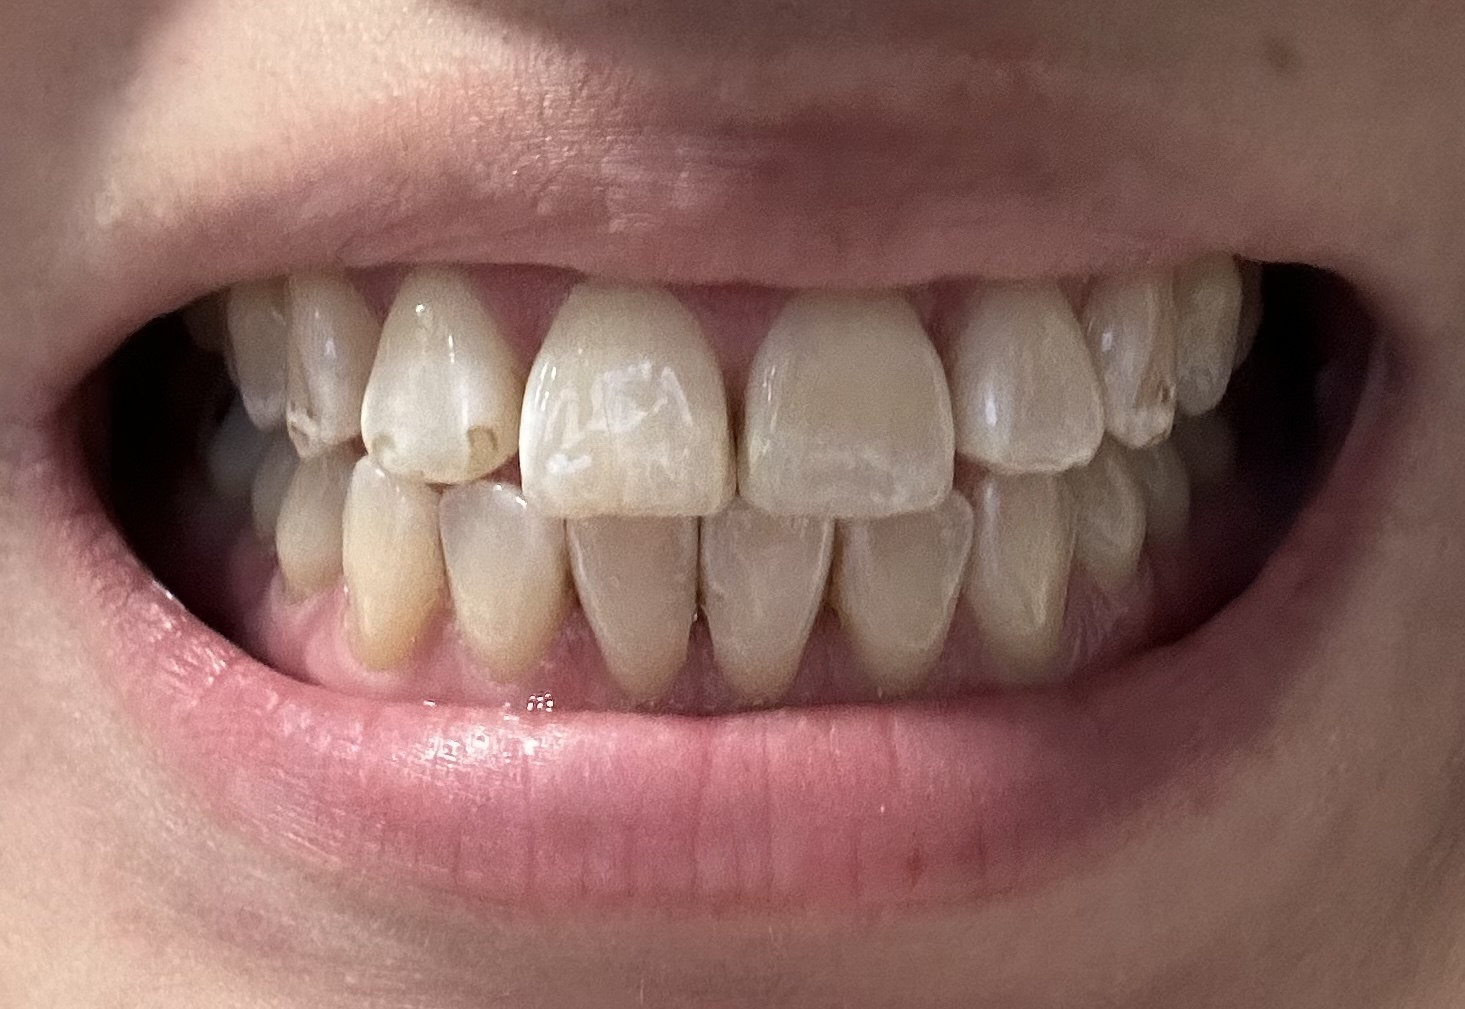teeth: (744, 293, 953, 515), (525, 285, 726, 512), (363, 268, 517, 482), (961, 280, 1098, 467), (838, 497, 972, 687), (702, 519, 827, 695), (567, 519, 687, 695), (444, 483, 559, 665), (972, 479, 1070, 675), (345, 471, 436, 664), (284, 278, 366, 449), (1100, 275, 1176, 443), (1079, 444, 1146, 589), (281, 455, 345, 597), (1183, 261, 1240, 410), (230, 285, 281, 418), (1150, 438, 1188, 543), (255, 444, 292, 518)
